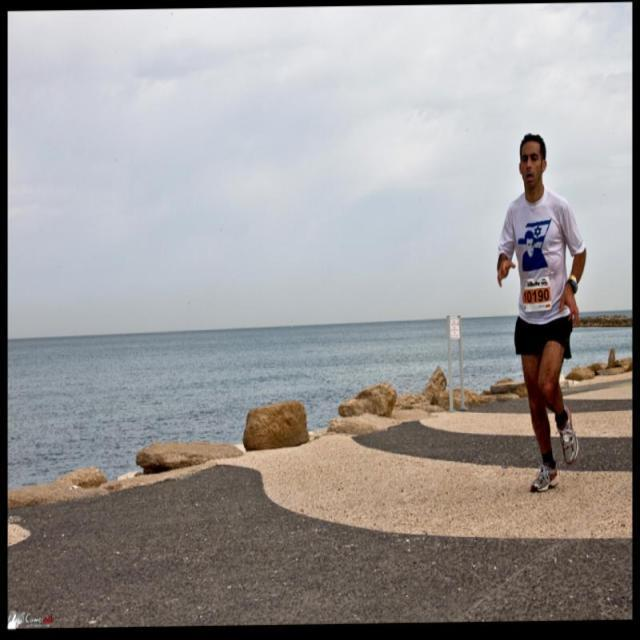dorsal: (516, 275, 559, 318)
